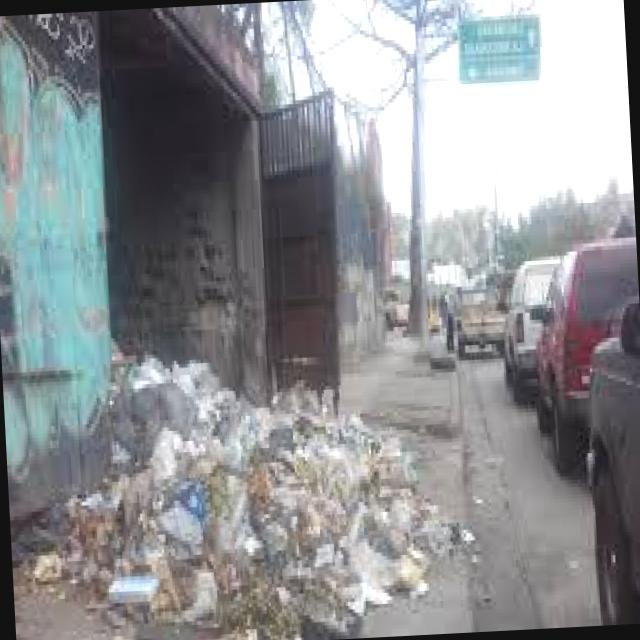garbage: (22, 338, 440, 640)
